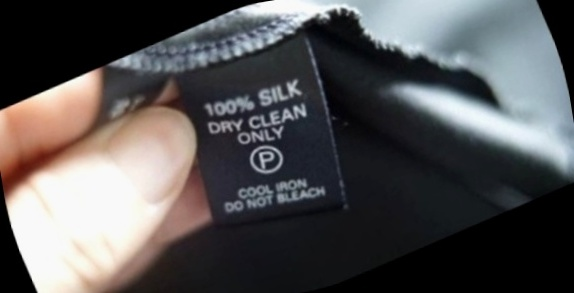dry_clean_any_solvent_except_trichloroethylene: (241, 133, 294, 184)
